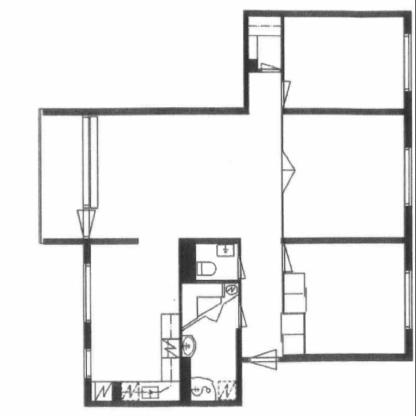door: (93, 15, 288, 401), (282, 113, 403, 236), (283, 243, 405, 354), (282, 16, 404, 108), (183, 284, 236, 400), (41, 110, 85, 241)
window: (247, 350, 281, 371), (280, 152, 297, 192), (78, 208, 98, 239), (282, 247, 297, 274), (238, 304, 249, 328), (261, 60, 279, 72), (238, 260, 248, 281), (282, 81, 290, 106)
zone: (83, 116, 97, 207), (404, 148, 414, 206), (83, 263, 92, 323), (403, 272, 412, 329), (404, 34, 410, 90), (85, 349, 92, 378)
